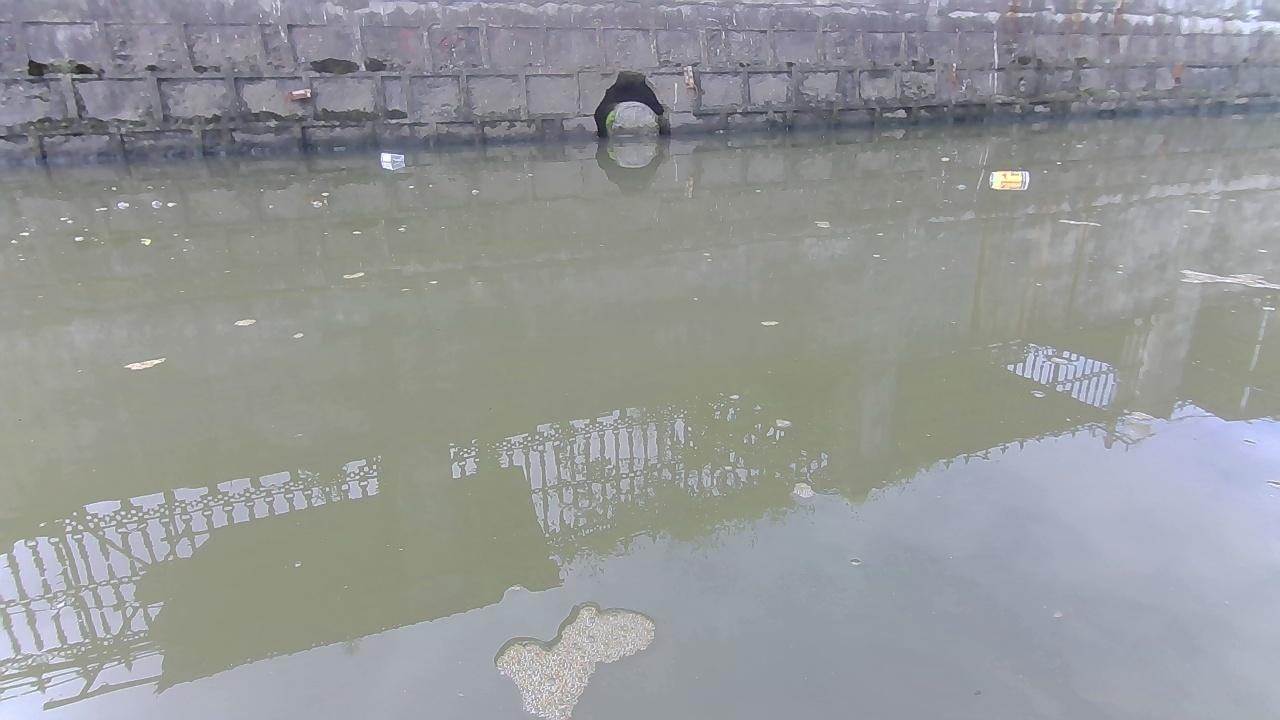bottle: (987, 170, 1029, 188), (376, 150, 406, 163)
